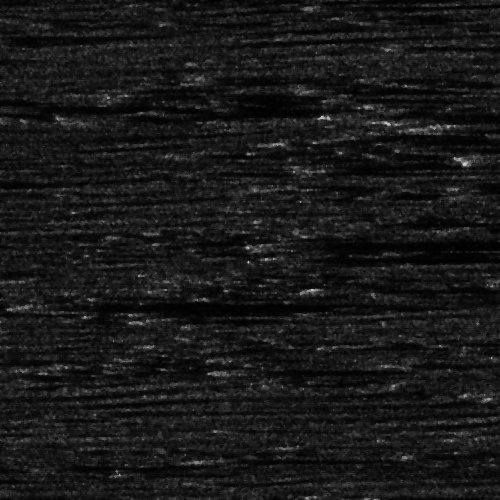object: (386, 120, 500, 133), (336, 104, 399, 123), (299, 131, 382, 142), (314, 340, 377, 349), (455, 152, 500, 163), (244, 238, 307, 245), (260, 254, 323, 259), (217, 368, 280, 373), (163, 455, 226, 460), (92, 468, 145, 473), (0, 101, 30, 108), (401, 145, 442, 148), (32, 302, 53, 305)
shadow: (0, 101, 283, 108), (340, 131, 500, 142), (276, 238, 500, 245), (346, 340, 475, 349), (292, 254, 500, 259), (43, 302, 380, 305), (195, 455, 356, 460), (368, 104, 407, 123), (443, 120, 500, 133), (248, 368, 371, 373), (119, 468, 196, 473), (0, 178, 72, 183), (422, 145, 462, 148)
